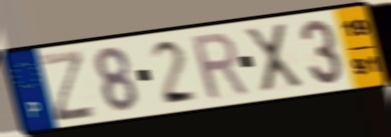2: (147, 39, 199, 107)
3: (299, 18, 345, 86)
8: (92, 45, 140, 115)
R: (187, 30, 252, 103)
X: (241, 21, 307, 96)
Z: (36, 47, 100, 125)
